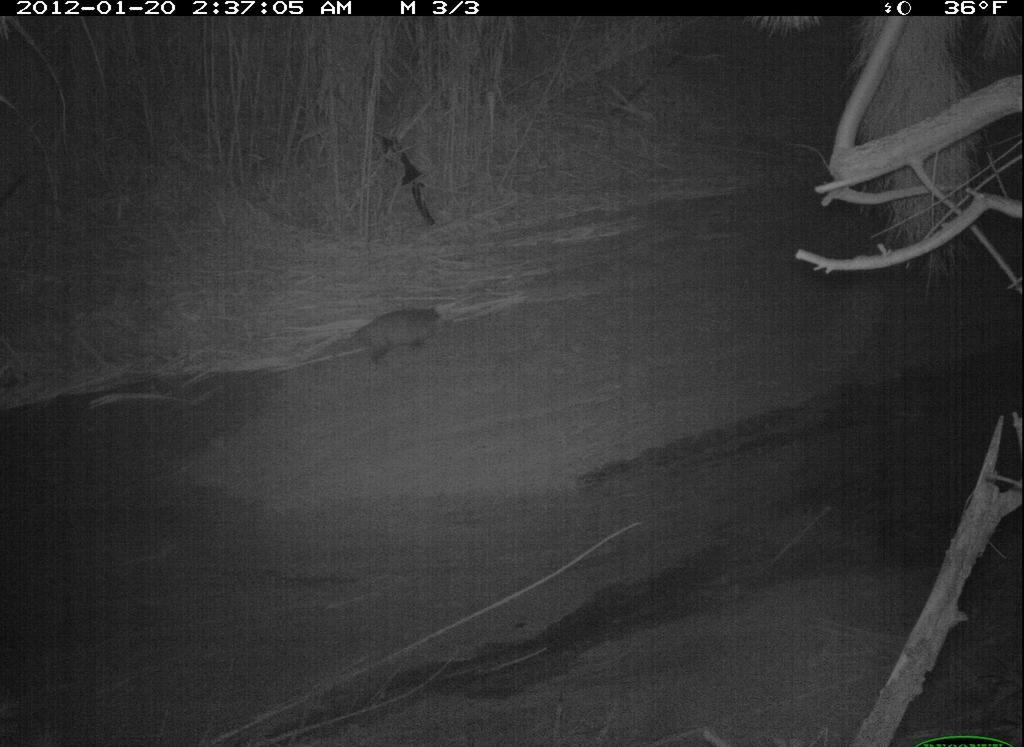opossum: (314, 290, 477, 370)
